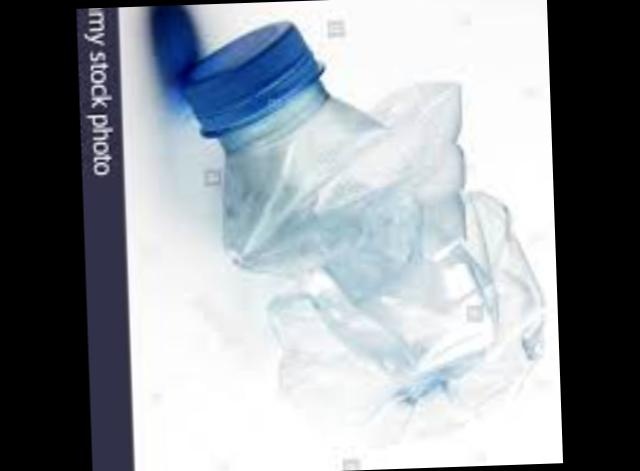plastic: (188, 18, 545, 404)
